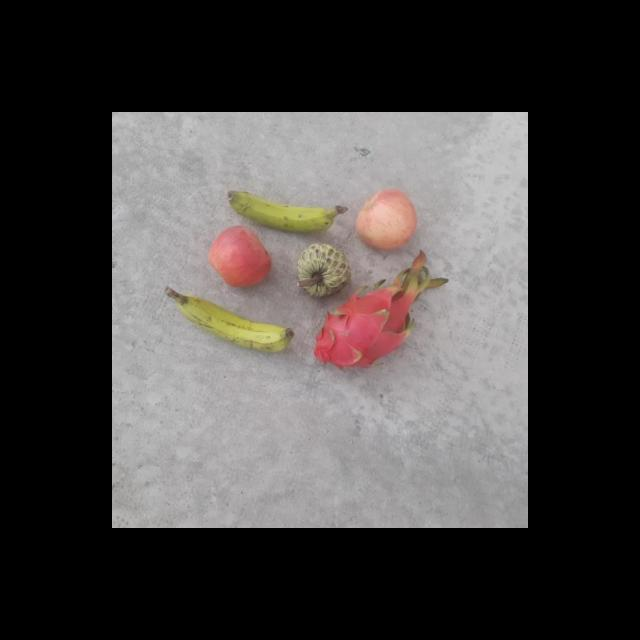Sakya fruit: (293, 243, 350, 299)
apple: (208, 223, 273, 286), (356, 188, 418, 250)
banana: (176, 291, 295, 355), (224, 186, 335, 234)
pitaya: (312, 291, 412, 374)
